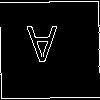A: (25, 25, 58, 73)
